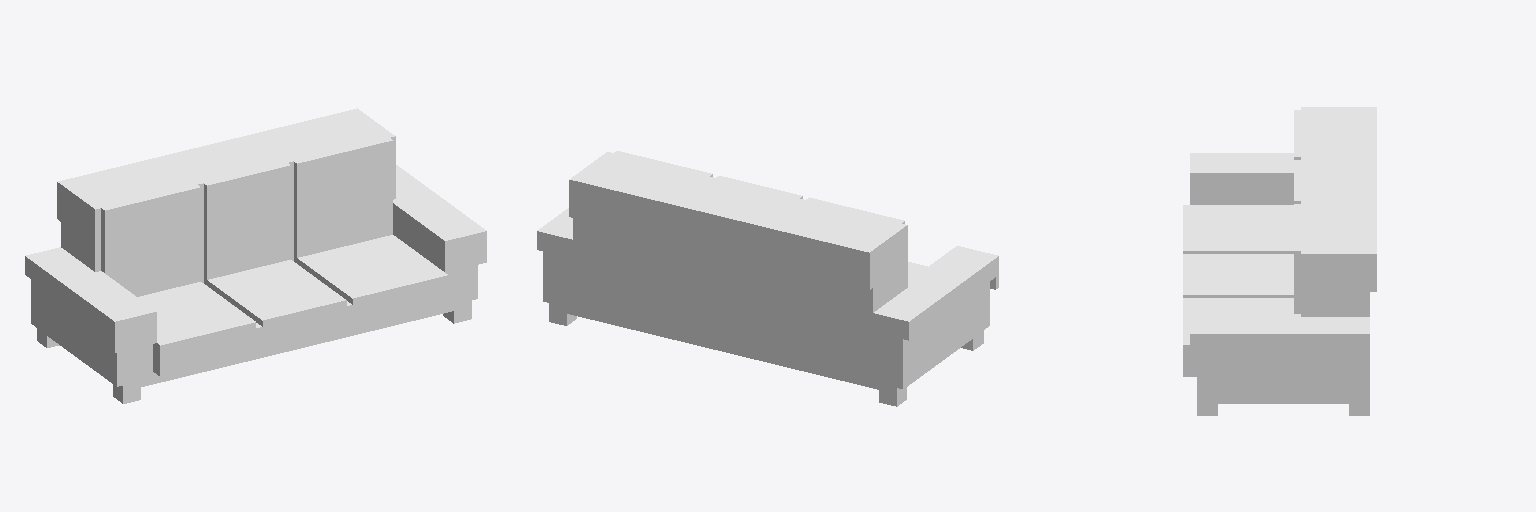
Rendered from divan1.obj.
The picture shows the model from 3 angles: view 1: azimuth 30°, elevation 25°; view 2: azimuth 150°, elevation 25°; view 3: azimuth 270°, elevation 25°; orthographic projection.
Visible parts, largest first — view 1: divan1; view 2: divan1; view 3: divan1.
Part boxes in pixels (left/top/right/bottom): divan1: left=25, top=108, right=486, bottom=403; divan1: left=537, top=151, right=998, bottom=406; divan1: left=1183, top=107, right=1376, bottom=415.
Size of the model in its own units: 124 by 48 by 56.